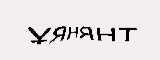К: (52, 19, 62, 40)
Т: (36, 21, 53, 40)
У: (76, 8, 95, 36)
Ю: (93, 4, 128, 31), (60, 13, 78, 36)
